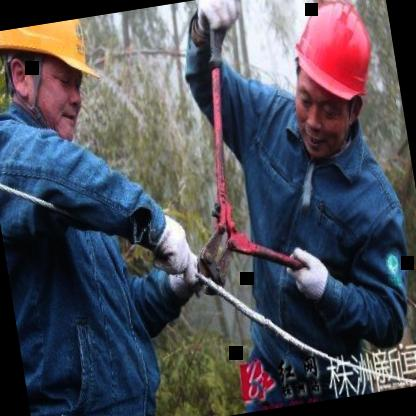helmet: (270, 0, 399, 172), (0, 15, 111, 154)
